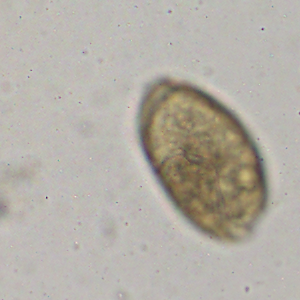Fasciola_hepatica_egg: (138, 74, 267, 245)
